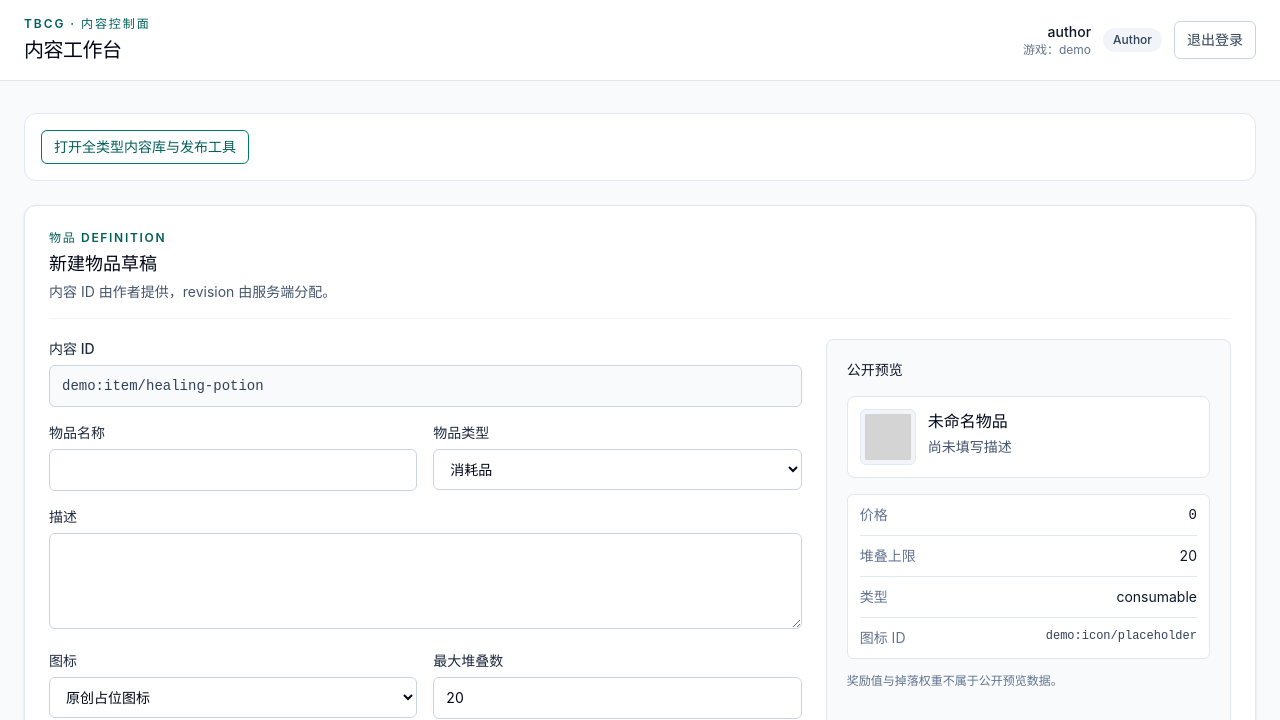
Test: App › revokes the current session on logout
What coordinates should you click on to do the following:
click the button "退出登录"
I would click on:
 (1215, 40)
Its box is x1=1174 y1=21 x2=1256 y2=59.
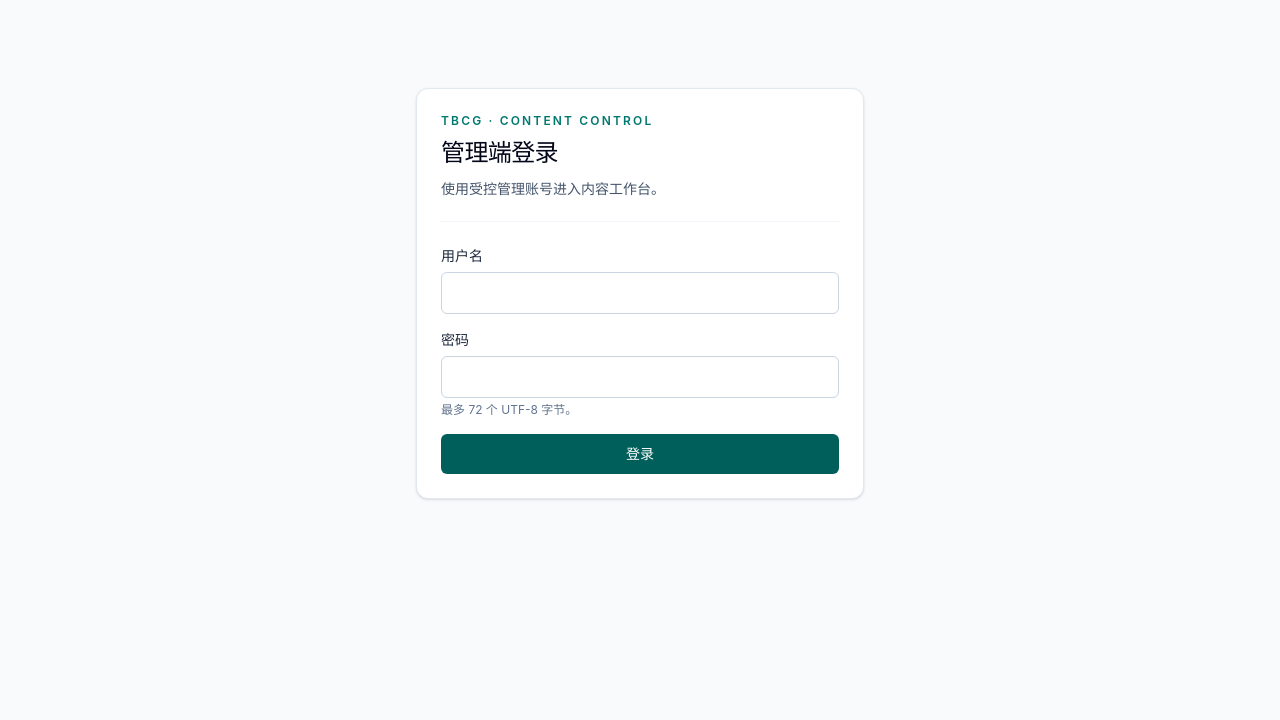
Expected: the heading "管理端登录" is shown, x1=441 y1=138 x2=558 y2=167
